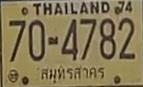0: (28, 19, 44, 60)
2: (118, 18, 134, 58)
4: (61, 18, 77, 60)
7: (8, 19, 25, 61), (79, 18, 96, 59), (8, 19, 25, 49)
8: (99, 17, 115, 59)
SKN: (39, 62, 107, 85)
